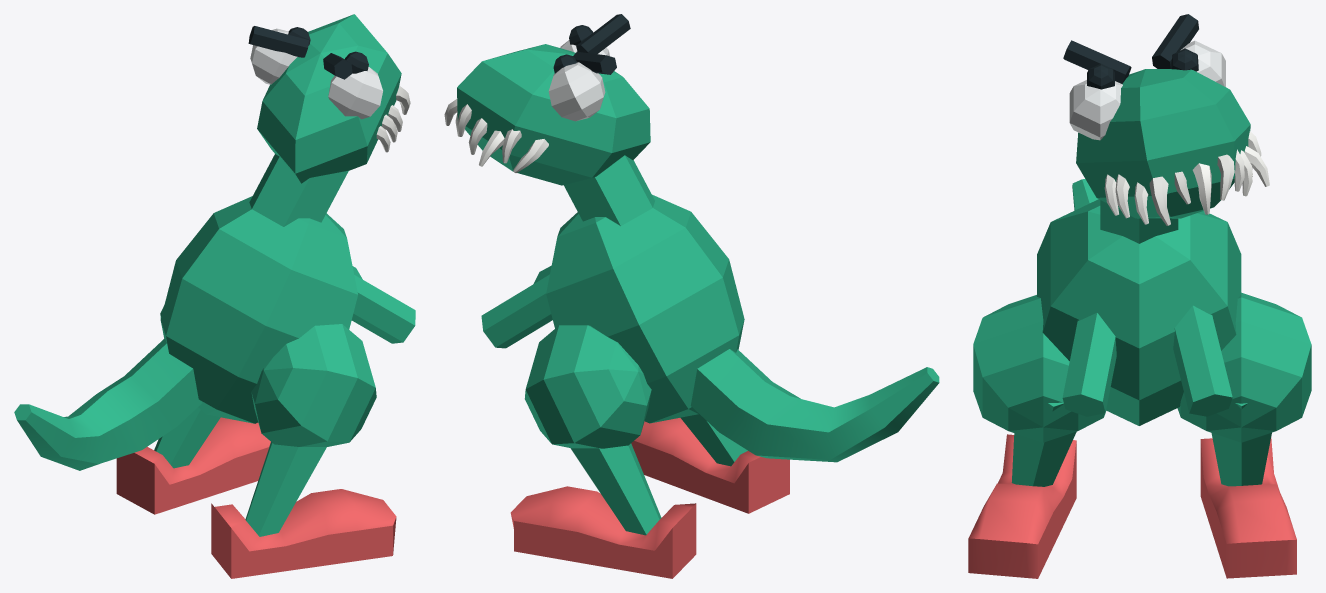
File: Dinosaur_Mesh.fbx
3 renders of one model, left to right at view 1: azimuth 30°, elevation 25°; view 2: azimuth 150°, elevation 25°; view 3: azimuth 270°, elevation 25°, orthographic. The views are drawn at different scales.
Parts seen in each view (by area): view 1: pCylinder64; view 2: pCylinder64; view 3: pCylinder64.
Boxes of the visible parts, bbox=[...] form: pCylinder64: bbox=[14, 14, 415, 578]; pCylinder64: bbox=[444, 14, 939, 578]; pCylinder64: bbox=[968, 14, 1311, 578].
Size of the model in its own units: 7.28 by 7.61 by 4.42.
